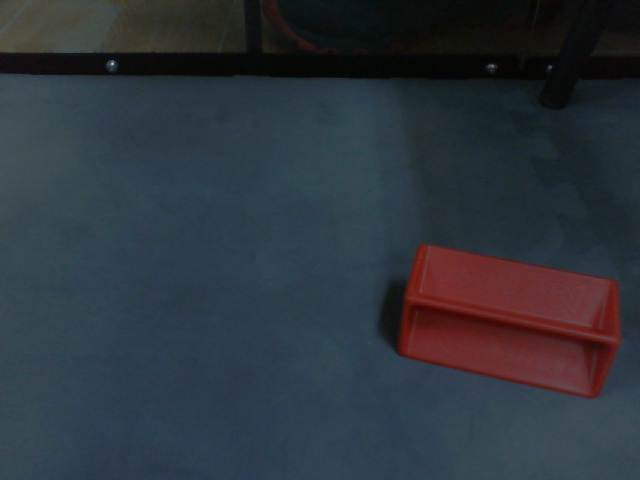RedSample: (395, 240, 623, 403)
